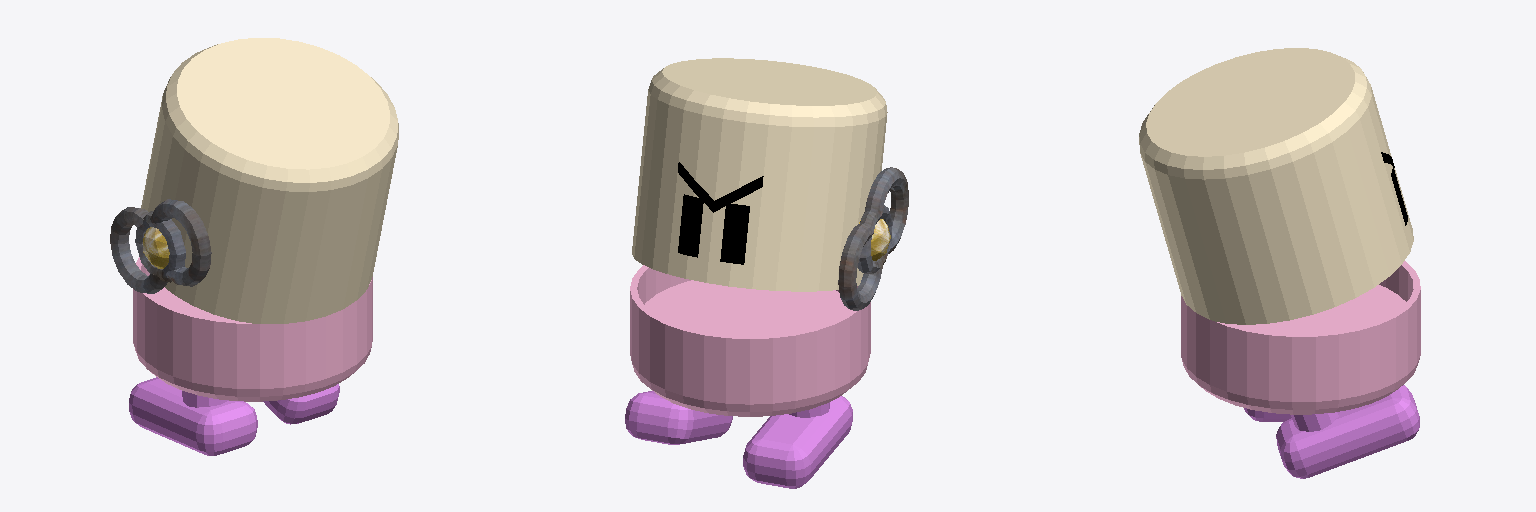
The picture shows the model from 3 angles: view 1: azimuth 30°, elevation 25°; view 2: azimuth 150°, elevation 25°; view 3: azimuth 270°, elevation 25°; orthographic projection.
Parts seen in each view (by area): view 1: Head, Jaw, WindupKey, LeftLeg, RightLeg; view 2: Head, Jaw, LeftLeg, WindupKey, RightLeg; view 3: Head, Jaw, RightLeg.
Part boxes in pixels (left/top/right/bottom): Head: left=141, top=38, right=398, bottom=323; Jaw: left=133, top=257, right=372, bottom=401; WindupKey: left=110, top=199, right=211, bottom=293; LeftLeg: left=129, top=377, right=257, bottom=455; RightLeg: left=263, top=384, right=339, bottom=424; Head: left=632, top=58, right=887, bottom=291; Jaw: left=630, top=265, right=870, bottom=416; LeftLeg: left=743, top=396, right=852, bottom=488; WindupKey: left=838, top=167, right=908, bottom=310; RightLeg: left=625, top=391, right=732, bottom=444; Head: left=1139, top=48, right=1413, bottom=324; Jaw: left=1181, top=261, right=1420, bottom=414; RightLeg: left=1276, top=385, right=1419, bottom=478.
Bounding box in the file's own units: 112 × 169 × 117.
6 materials, 2 textured.